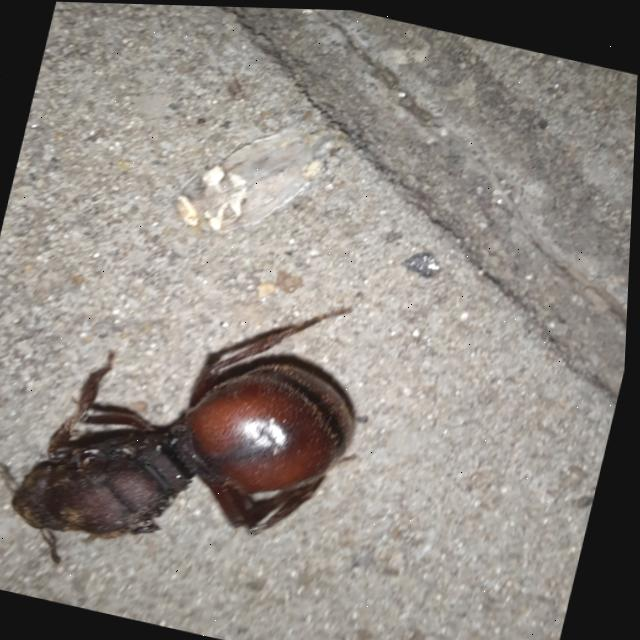Alive-Female-Dealate: (0, 231, 398, 623)
